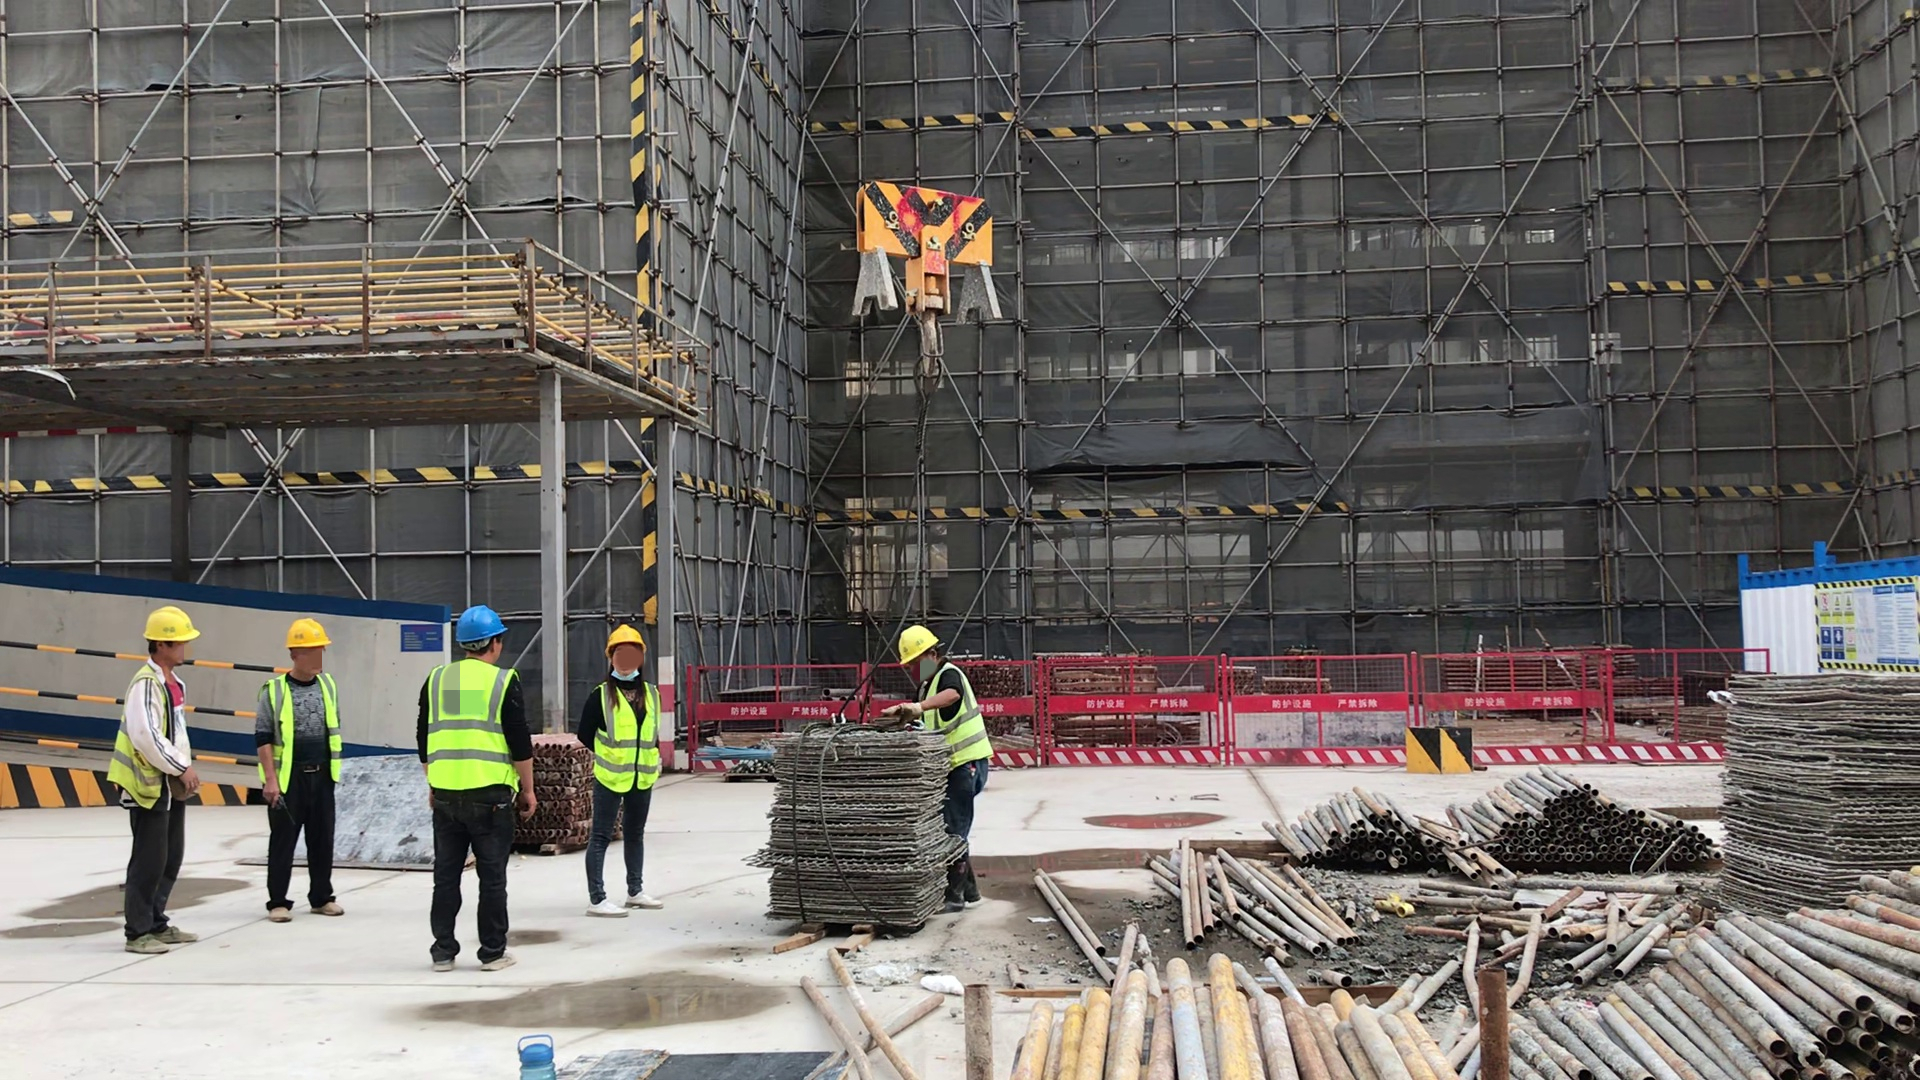fence: (978, 658, 1722, 771), (681, 655, 850, 765)
helmet: (450, 607, 513, 651), (143, 604, 203, 650), (894, 621, 940, 665), (283, 616, 333, 655), (604, 622, 648, 662)
hook: (842, 173, 1003, 402)
person: (412, 605, 535, 979), (105, 602, 205, 958), (893, 619, 993, 913), (254, 621, 344, 925), (583, 621, 663, 920)
scaffold: (1444, 905, 1920, 1078), (985, 965, 1442, 1080), (1442, 770, 1711, 887), (1147, 836, 1364, 952), (1277, 787, 1464, 887), (532, 730, 586, 857)
slogan: (1808, 579, 1920, 679)
vest: (427, 661, 524, 794), (263, 669, 346, 792), (110, 663, 169, 809), (594, 682, 664, 799), (922, 668, 988, 777)
